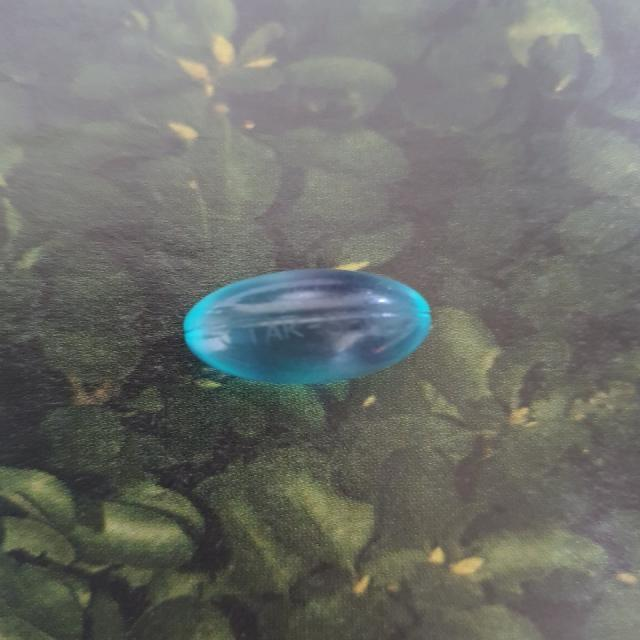pill: (172, 234, 446, 416)
